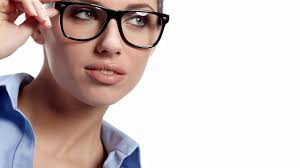glasses: (40, 2, 176, 53)
